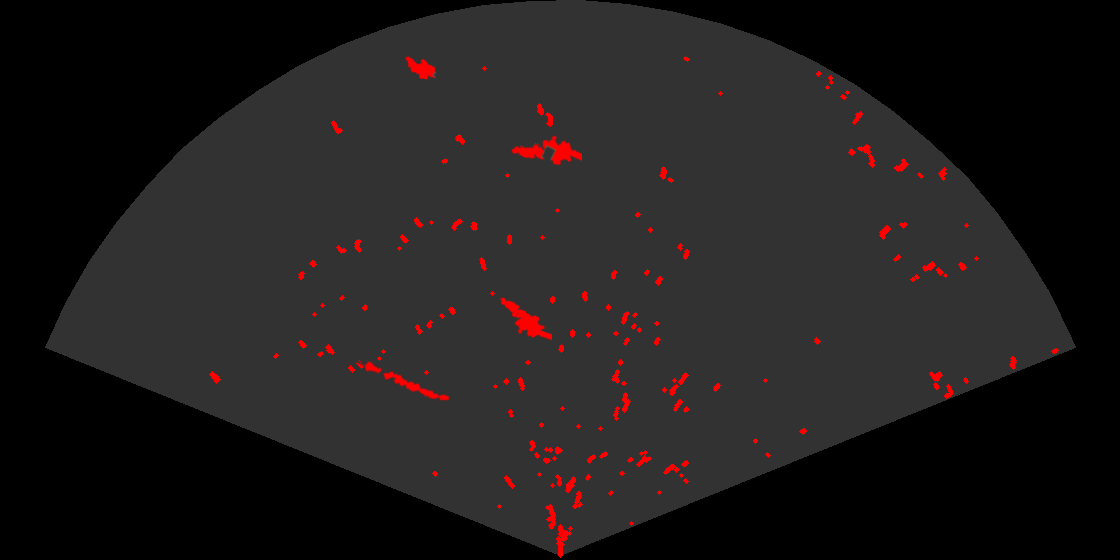AUV: (404, 55, 437, 81)
chain: (355, 358, 451, 402)
frogman: (498, 296, 552, 342), (510, 134, 582, 167)
